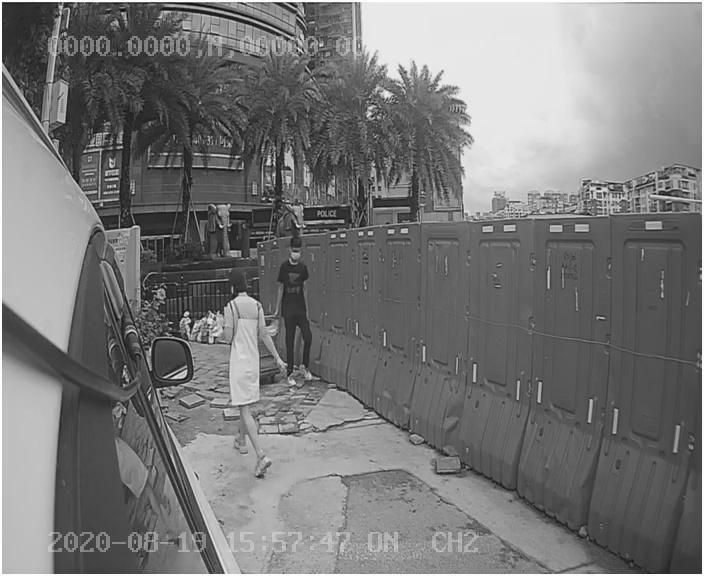person: (209, 270, 290, 477)
